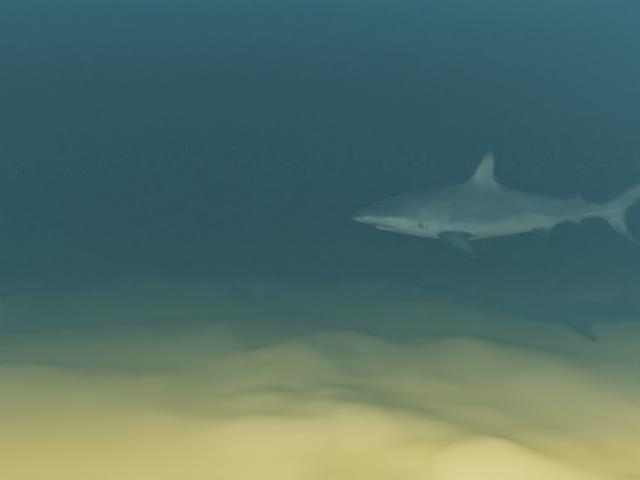Carribean Shark.001: (350, 150, 640, 258)
